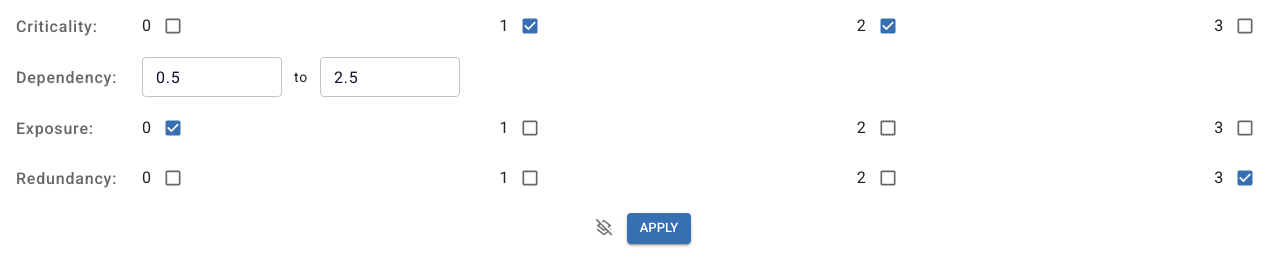
Scenario: GlobalScoreFilter › User interactions › resets to defaults when Clear button is clicked
Click the button titled "Clear filter" at point(604, 228), box top-left (589, 213), bottom-right (619, 243)
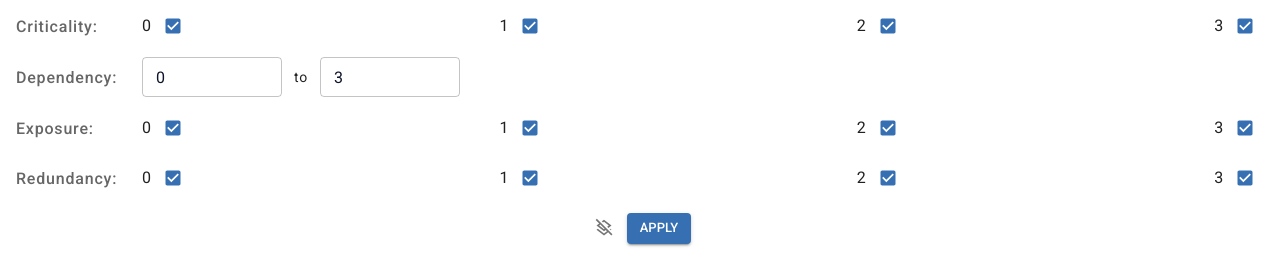
Result: the checkbox labelled "0" next to "Criticality" is checked at top-left (142, 16), bottom-right (183, 36)
Result: the checkbox labelled "3" in the row of "Criticality" is checked at top-left (1214, 16), bottom-right (1255, 36)
Result: the checkbox labelled "1" in the row of "Exposure" is checked at top-left (499, 118), bottom-right (540, 138)
